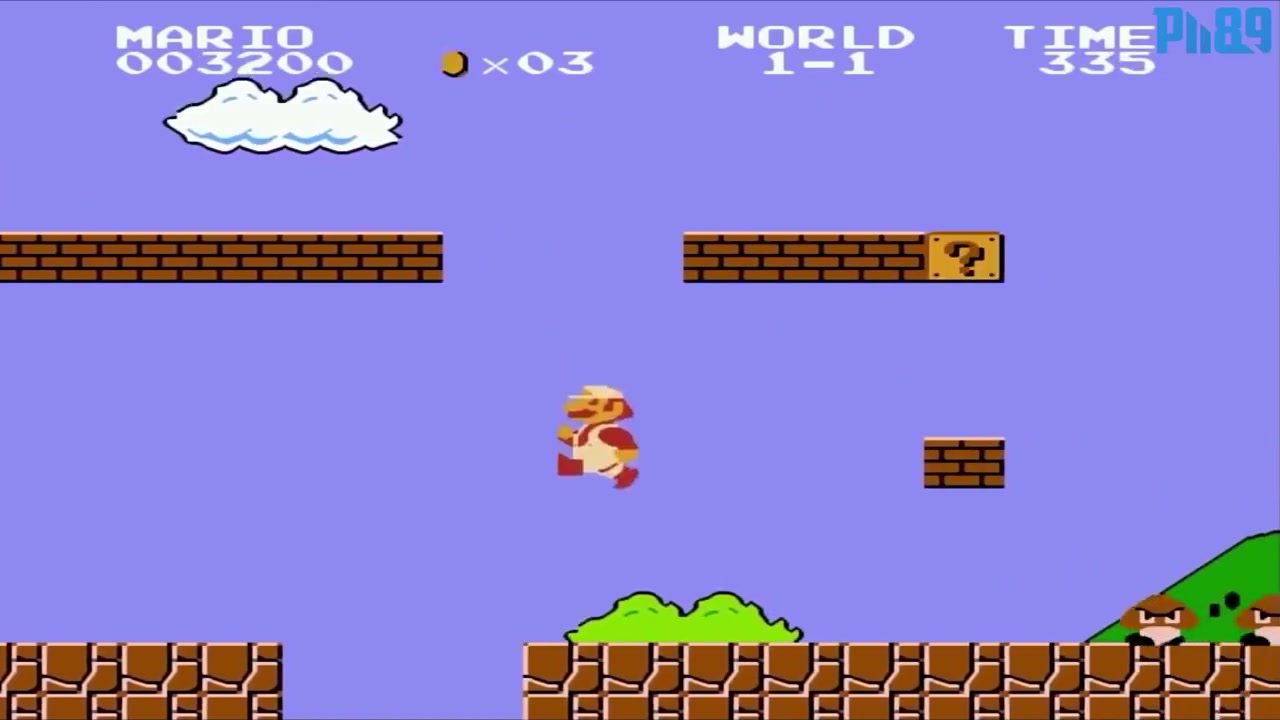mario: (547, 382, 643, 491)
